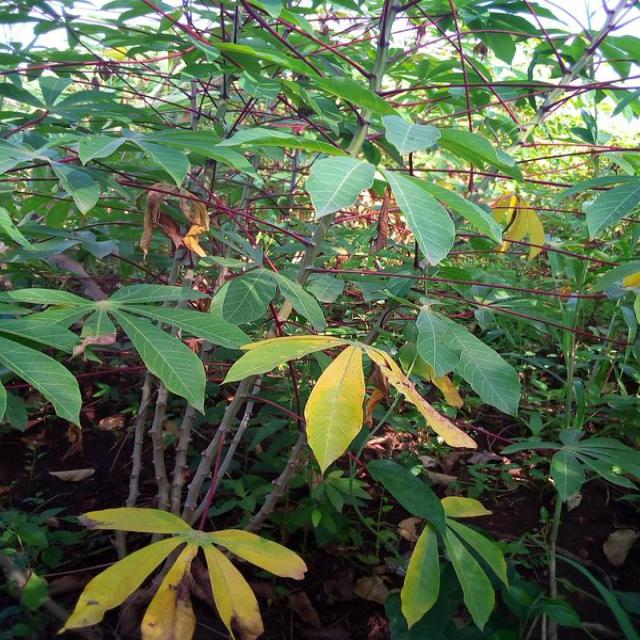cassava leaf: (57, 504, 307, 638), (414, 304, 521, 418), (110, 304, 206, 415), (303, 344, 366, 474), (382, 165, 456, 267), (304, 154, 374, 218)
